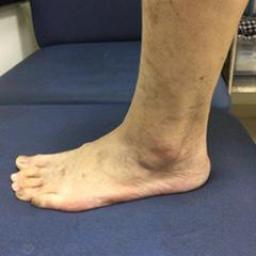Lateral View -Left Foot-: (5, 100, 219, 217)
